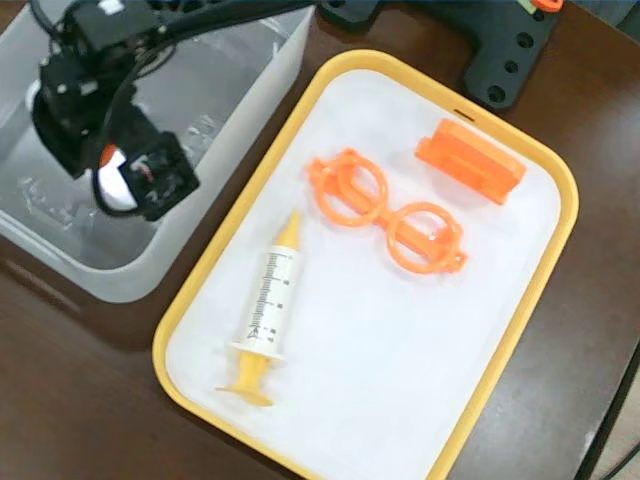syringe: (214, 205, 302, 410)
